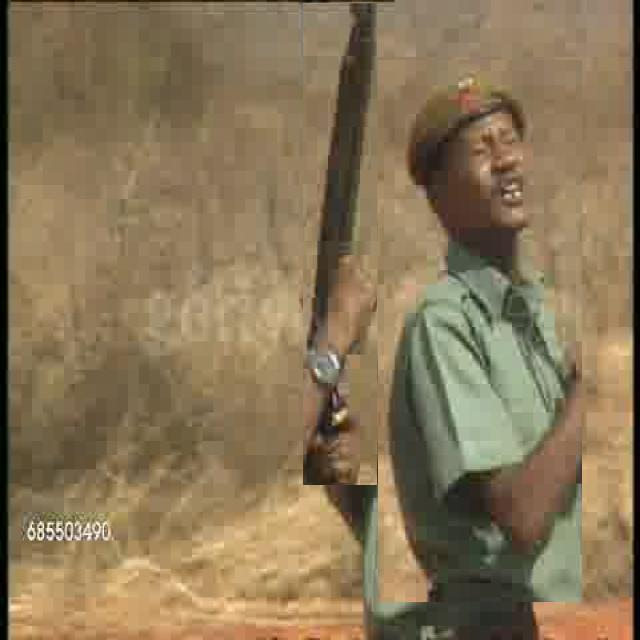poacher: (378, 60, 582, 602)
weapon: (303, 3, 377, 486)
